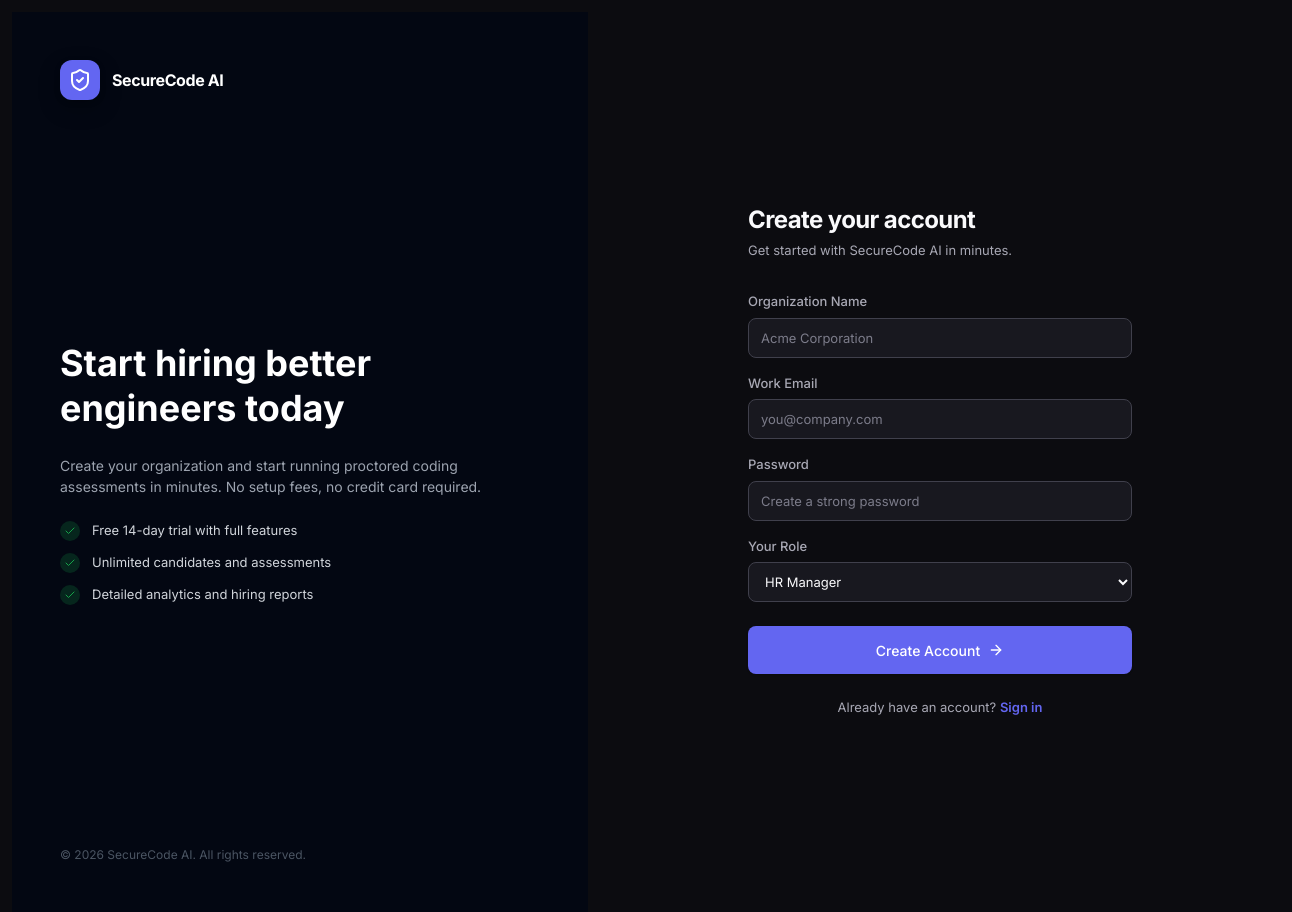
Test: RegisterPage › submits registration form and navigates on success
The image size is (1292, 912).
Step 1. Type "Test Org" into the field with placeholder "Acme Corporation" → (940, 338), box [748,318,1132,358]
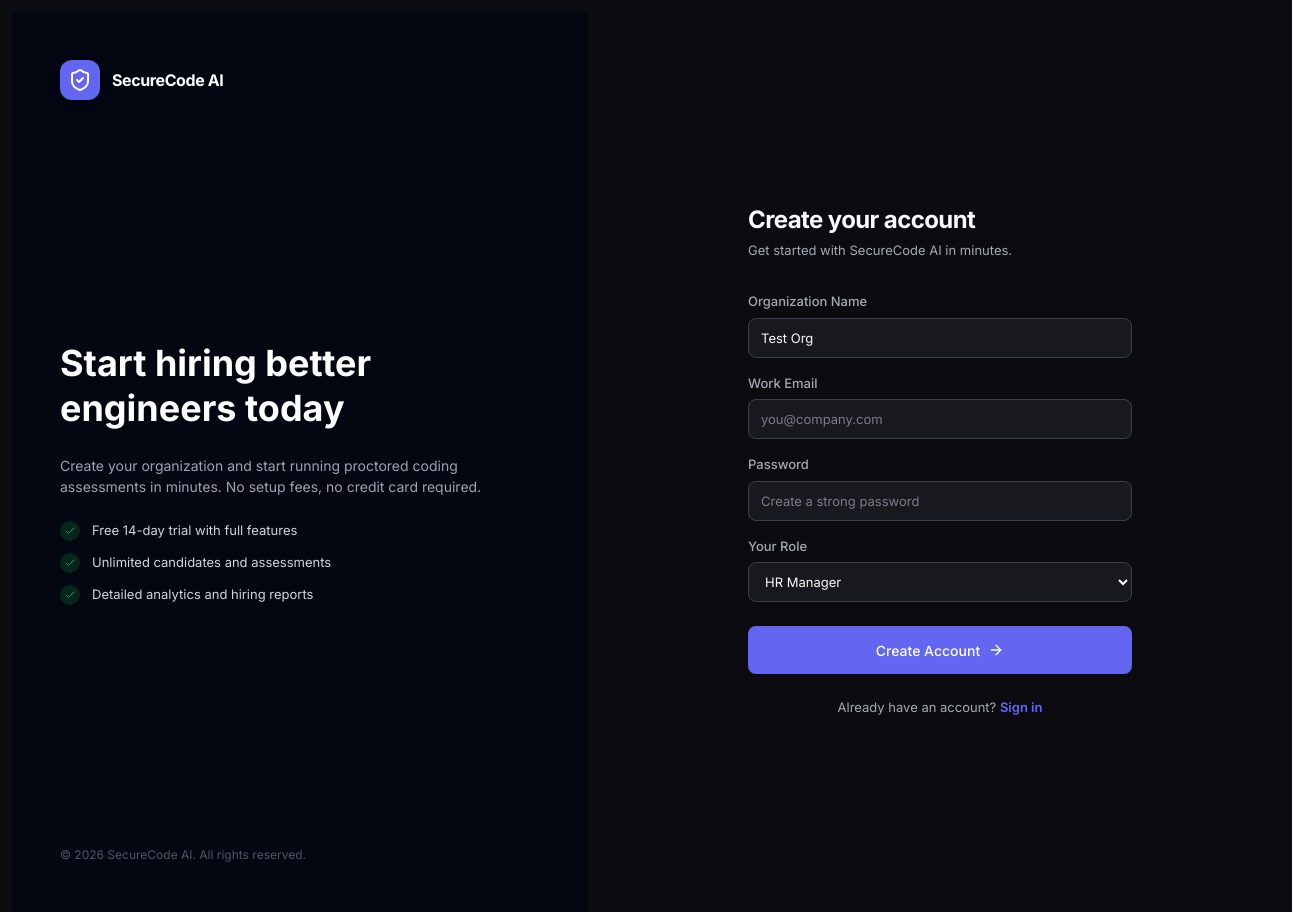
Step 2. Type "new@test.com" into the field with placeholder "you@company.com" → (940, 419), box [748,399,1132,439]
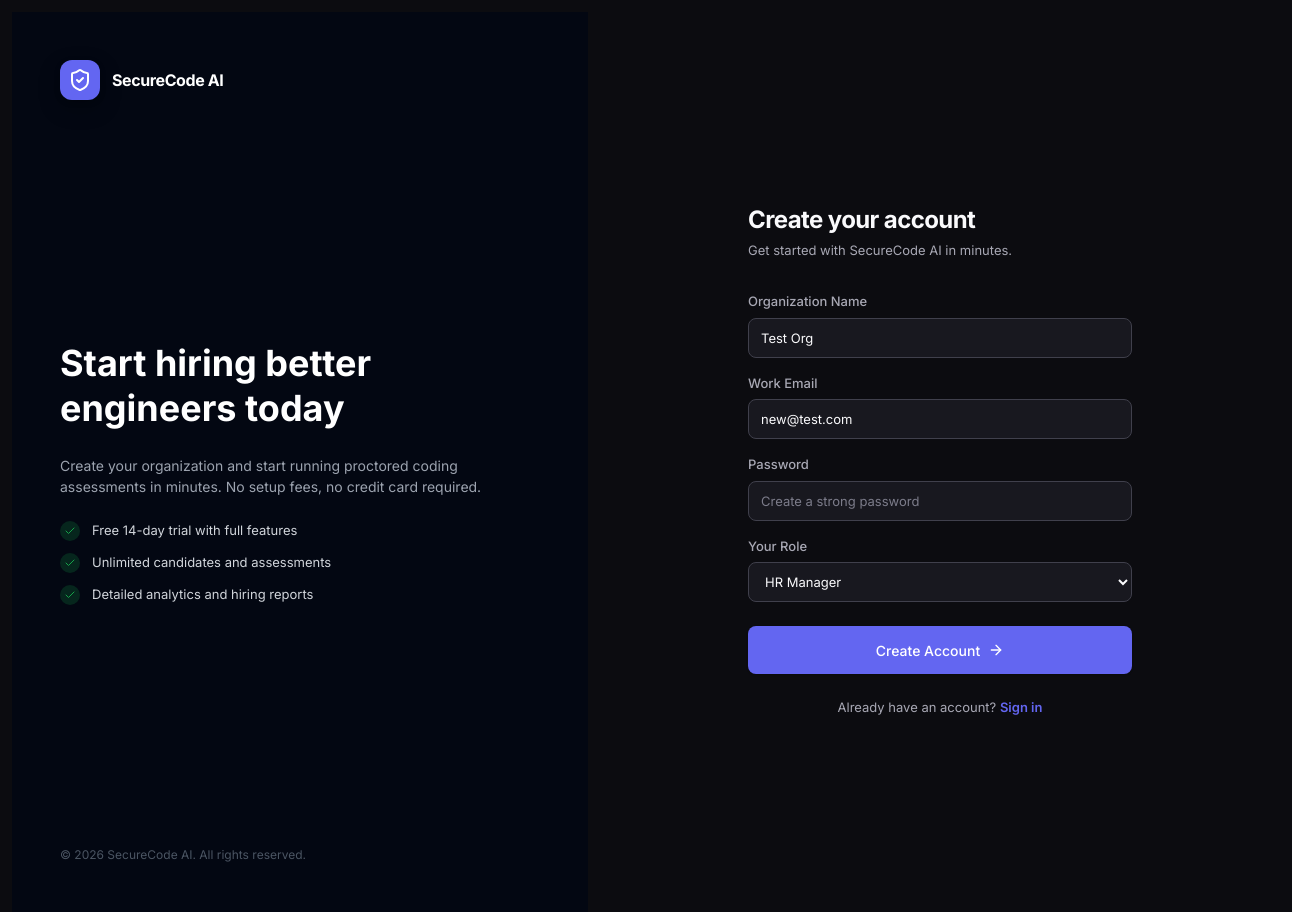
Step 3. Type "SecurePass123!" into the password field with placeholder "Create a strong password" → (940, 501), box [748,481,1132,521]
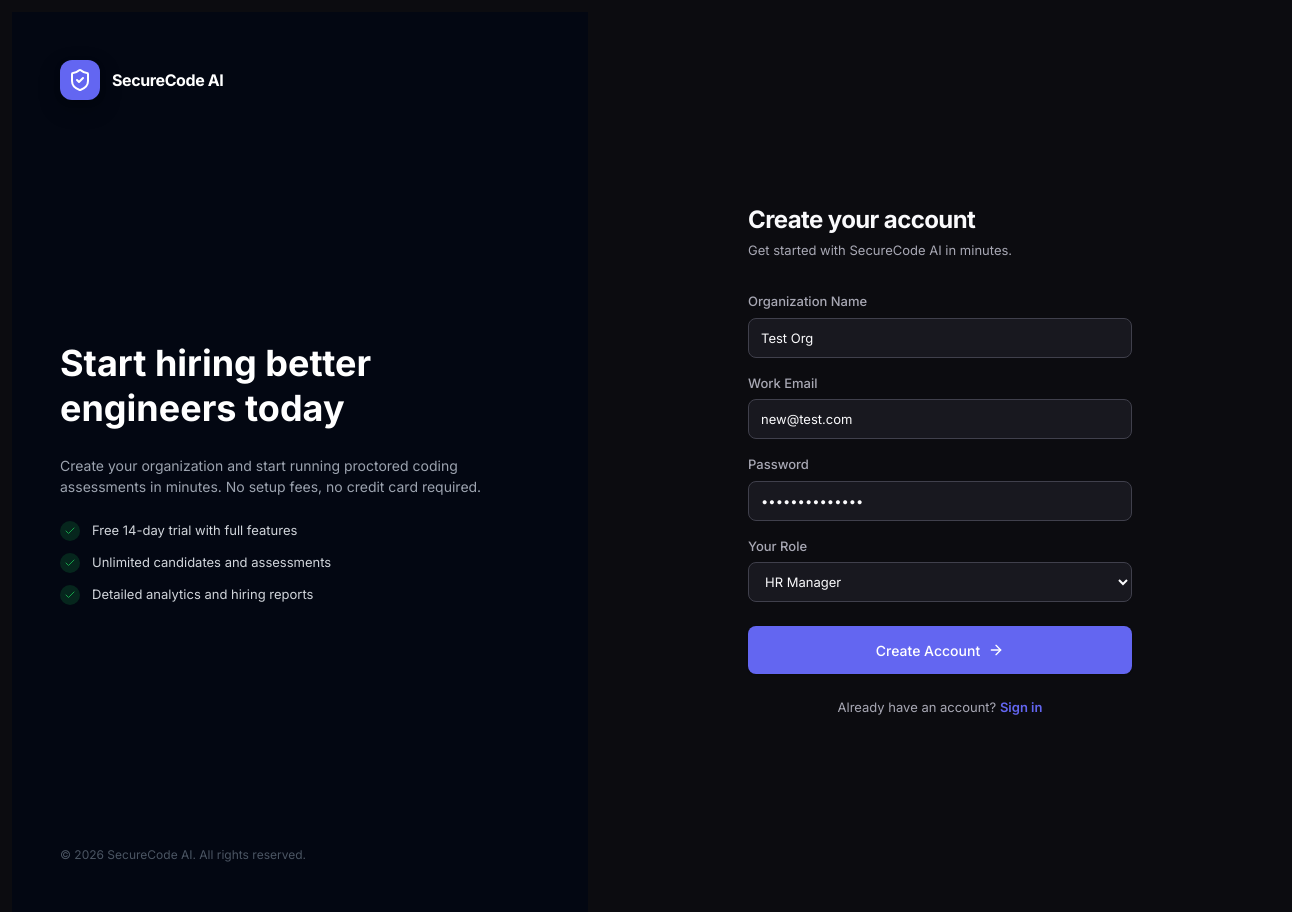
Step 4. Click the button "Create Account" → (940, 650), box [748,626,1132,674]
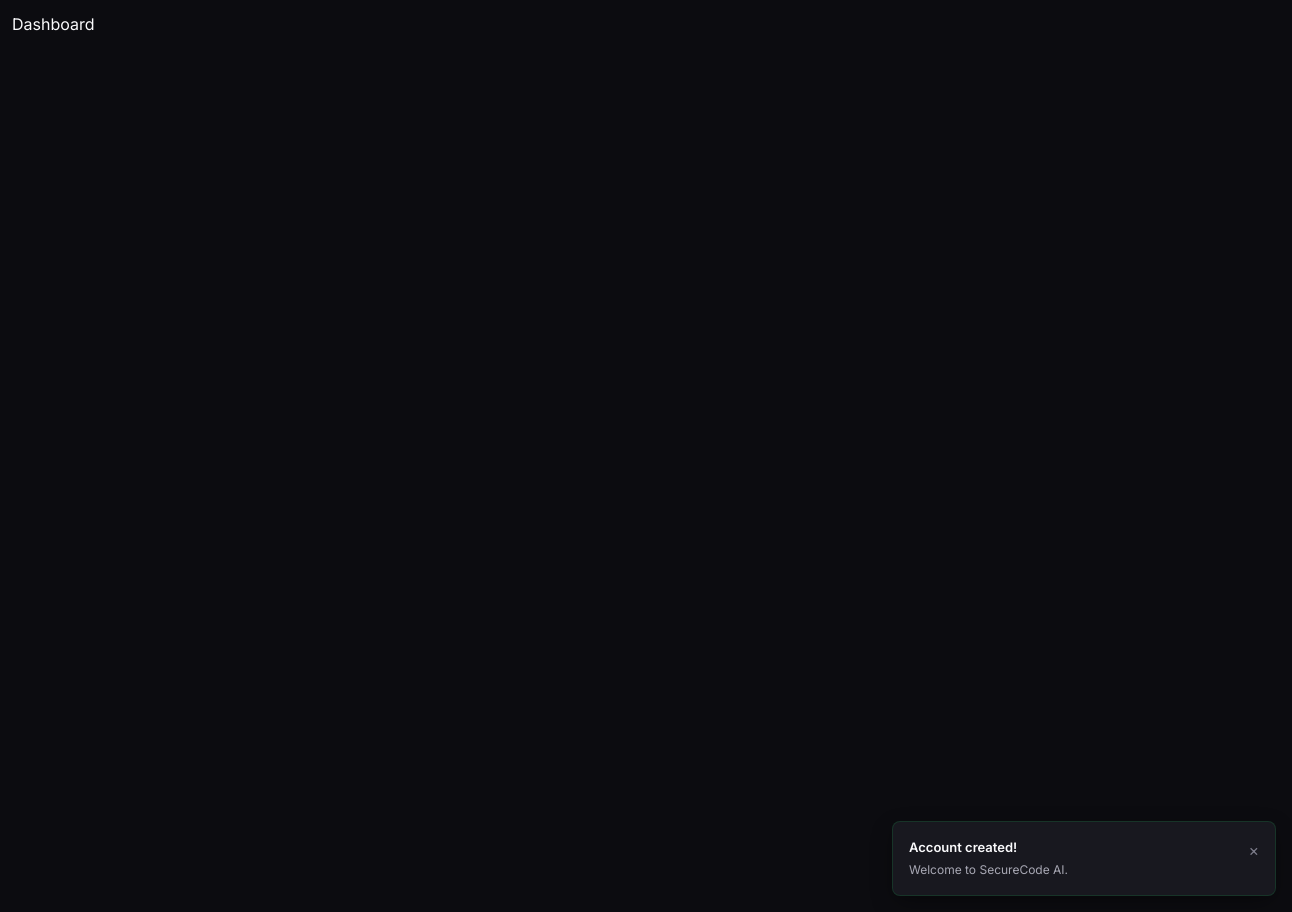
Result: the text "Dashboard" is shown at [12,14,94,34]
